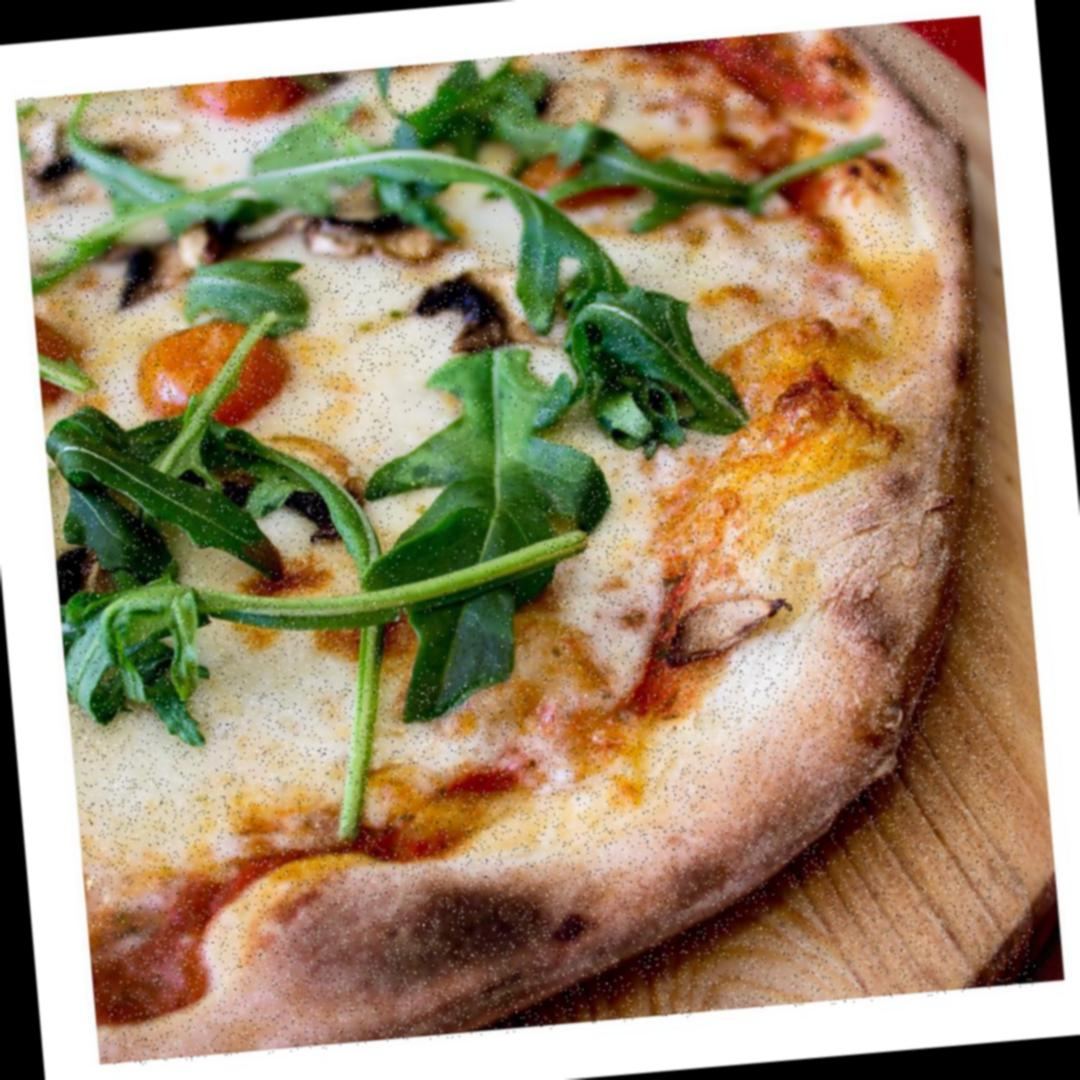Arugula: (86, 97, 904, 280), (50, 418, 375, 704), (387, 363, 558, 684), (552, 277, 746, 464)
Pizza: (18, 18, 1038, 1068)
Tomatoes: (137, 322, 293, 426), (176, 78, 314, 133)
